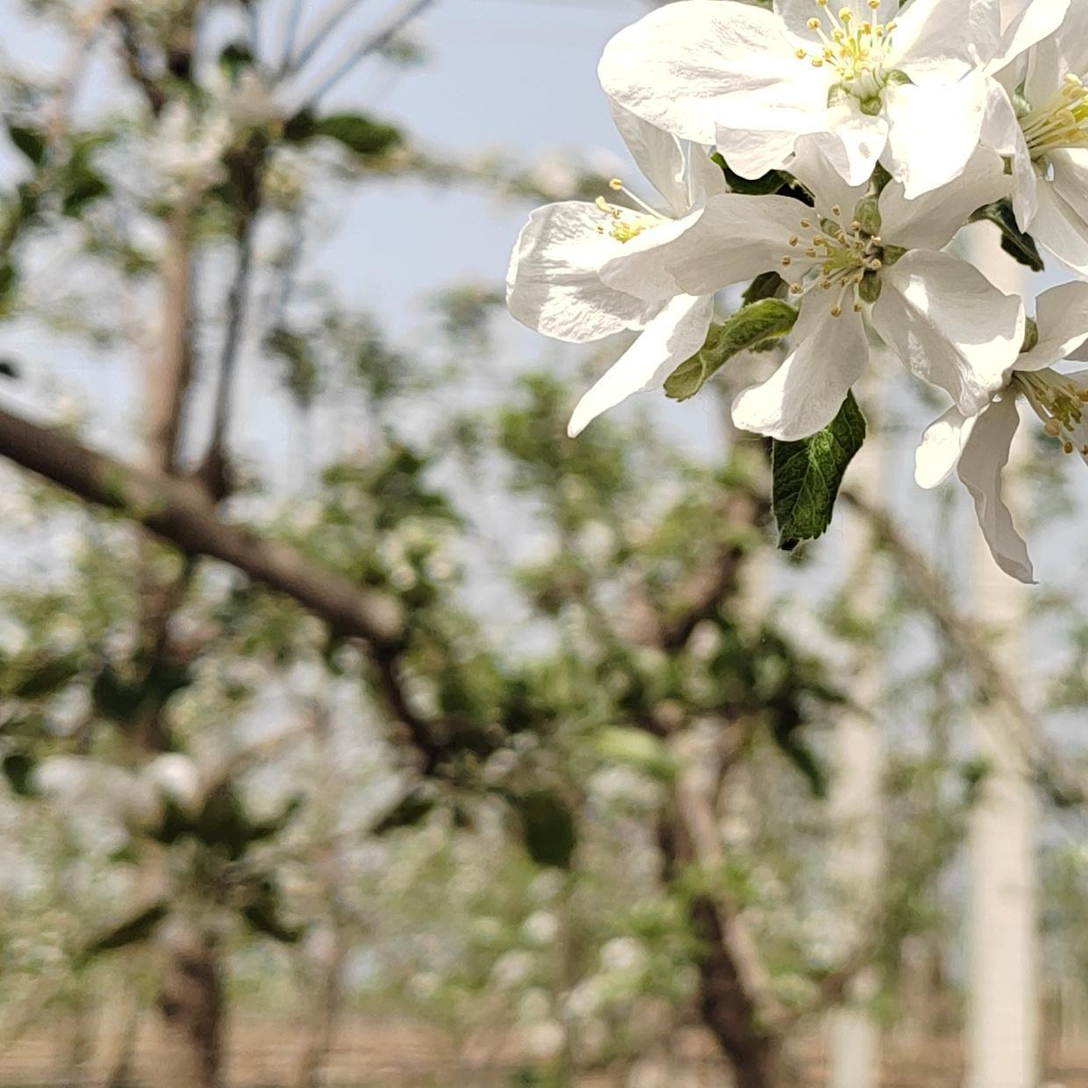apple_flower: (507, 0, 1088, 576)
